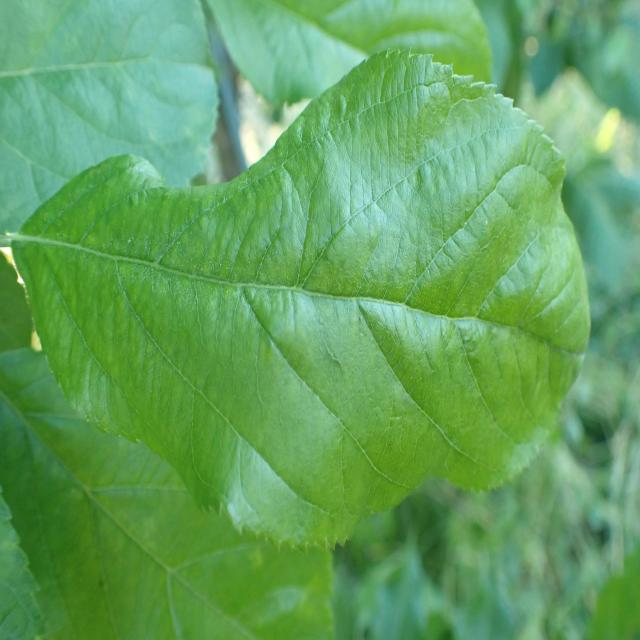healthy: (11, 48, 592, 557), (0, 346, 334, 640), (0, 0, 221, 245), (207, 0, 493, 109)
